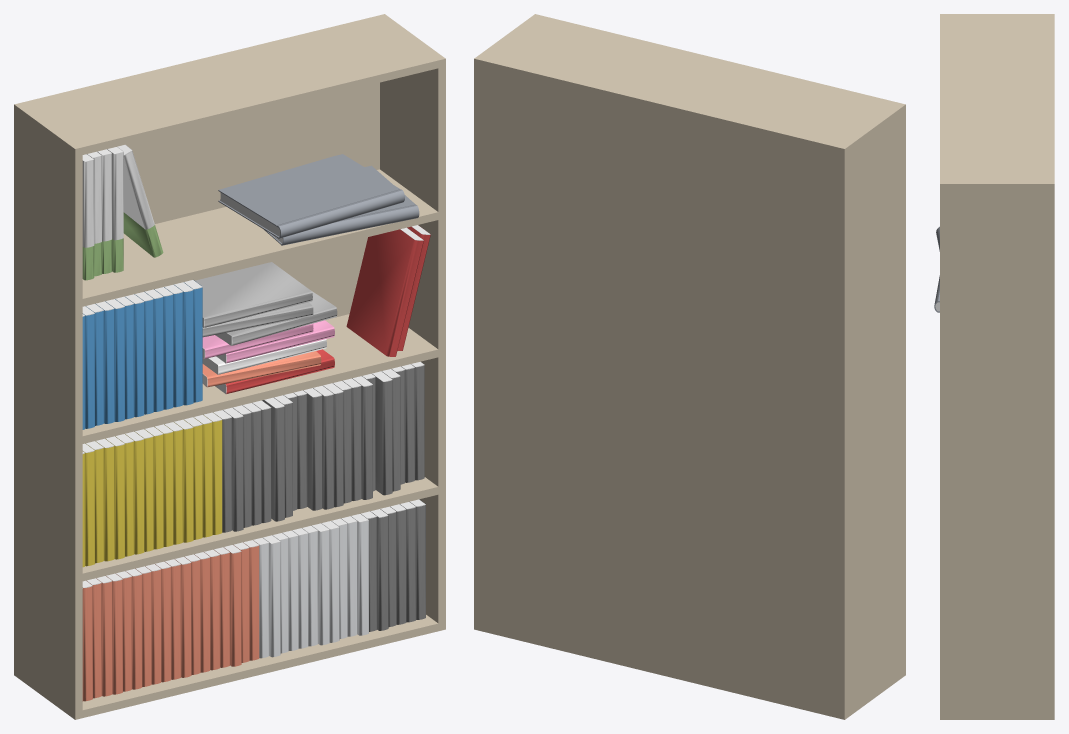
Rendered from 146_本が入った本棚.glb.
The picture shows the model from 3 angles, left to right: view 1: azimuth 30°, elevation 25°; view 2: azimuth 150°, elevation 25°; view 3: azimuth 270°, elevation 25°; orthographic projection. The views are drawn at different scales.
Visible parts, largest first — view 1: 146_本が入った本棚, 本 3段目, 本 4段目, 本 2段目, 本 1段目; view 2: 146_本が入った本棚; view 3: 146_本が入った本棚.
Part boxes in pixels (x1=…): 146_本が入った本棚: x1=14, y1=14, x2=445, y2=719; 本 3段目: x1=82, y1=361, x2=424, y2=567; 本 4段目: x1=82, y1=499, x2=425, y2=701; 本 2段目: x1=82, y1=225, x2=430, y2=429; 本 1段目: x1=82, y1=144, x2=419, y2=280; 146_本が入った本棚: x1=474, y1=14, x2=905, y2=719; 146_本が入った本棚: x1=940, y1=14, x2=1054, y2=719.
Size of the model in its own units: 0.596 by 0.877 by 0.1786.
